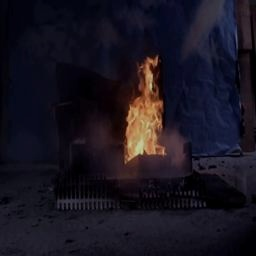fire: (111, 51, 169, 168)
